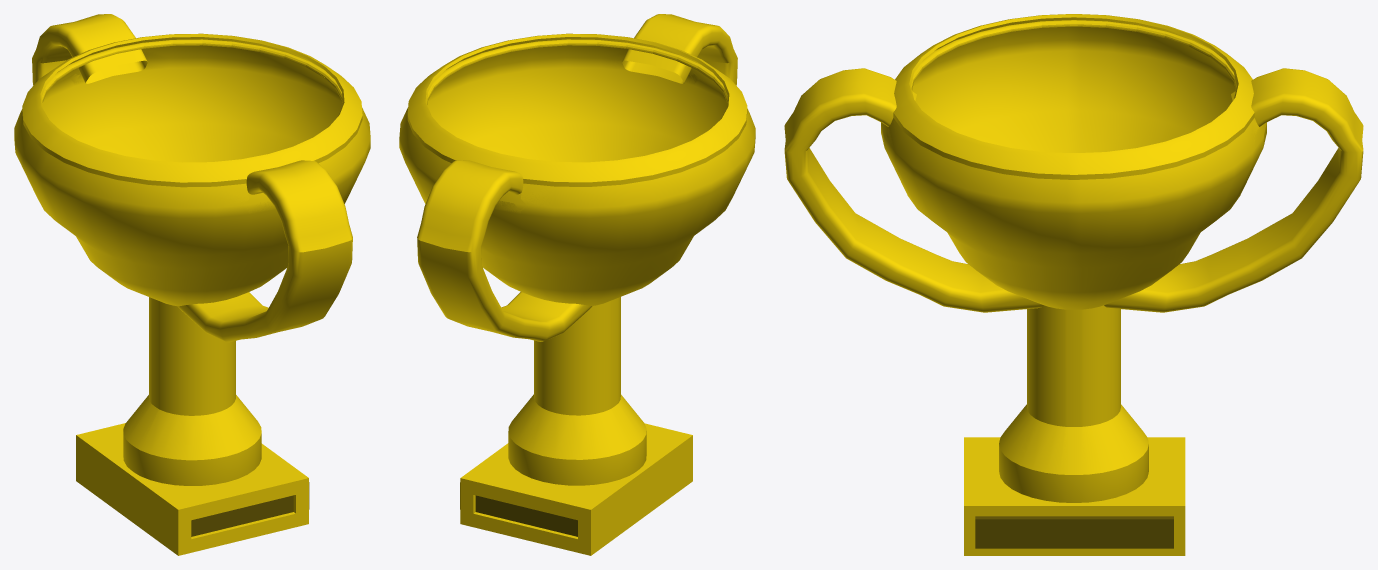
Rendered from trofeu.fbx.
3 views of the same model, side by side, from view 1: azimuth 30°, elevation 25°; view 2: azimuth 150°, elevation 25°; view 3: azimuth 270°, elevation 25° (orthographic). The views are drawn at different scales.
Parts seen in each view (by area): view 1: Cube.003; view 2: Cube.003; view 3: Cube.003.
Part boxes in pixels (x1,y1,x2,y2): Cube.003: (14,14,370,555); Cube.003: (399,14,755,555); Cube.003: (784,14,1363,555).
Bounding box in the file's own units: 819 × 1031 × 1230.
